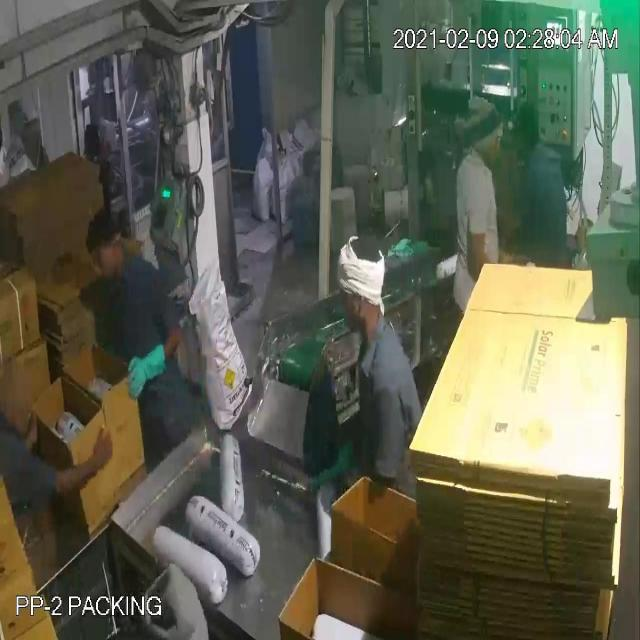Gloves: (64, 58, 145, 466)
